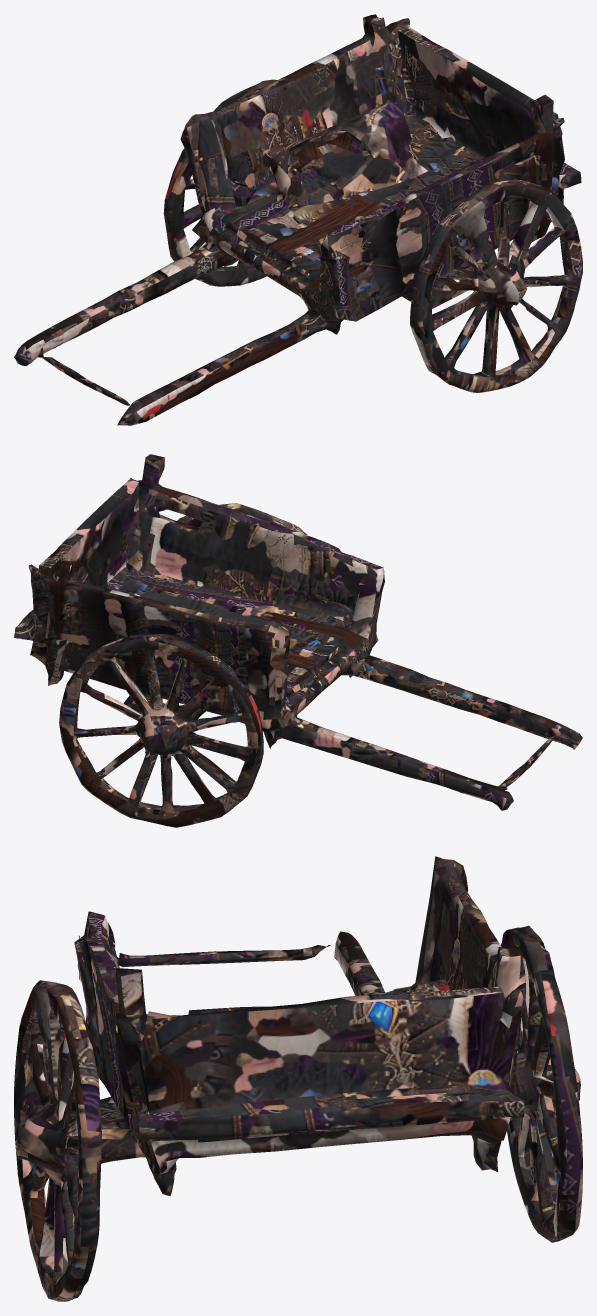
The picture shows the model from 3 angles, top to bottom: view 1: azimuth 30°, elevation 25°; view 2: azimuth 150°, elevation 25°; view 3: azimuth 270°, elevation 25°; orthographic projection. The views are drawn at different scales.
Visible parts, largest first — view 1: tripo_node_da114194; view 2: tripo_node_da114194; view 3: tripo_node_da114194.
Part boxes in pixels (x1=…): tripo_node_da114194: x1=14, y1=14, x2=582, y2=425; tripo_node_da114194: x1=14, y1=454, x2=582, y2=827; tripo_node_da114194: x1=14, y1=856, x2=582, y2=1301.
Bounding box in the file's own units: 0.9958 × 0.4792 × 0.681.
